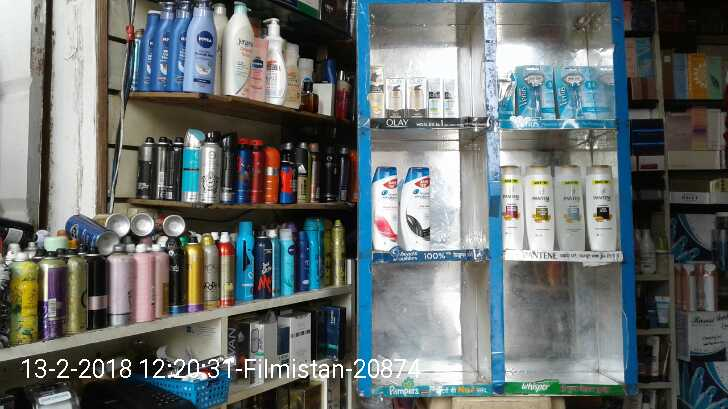venus: (554, 67, 592, 123), (515, 64, 553, 119), (501, 74, 515, 114)
